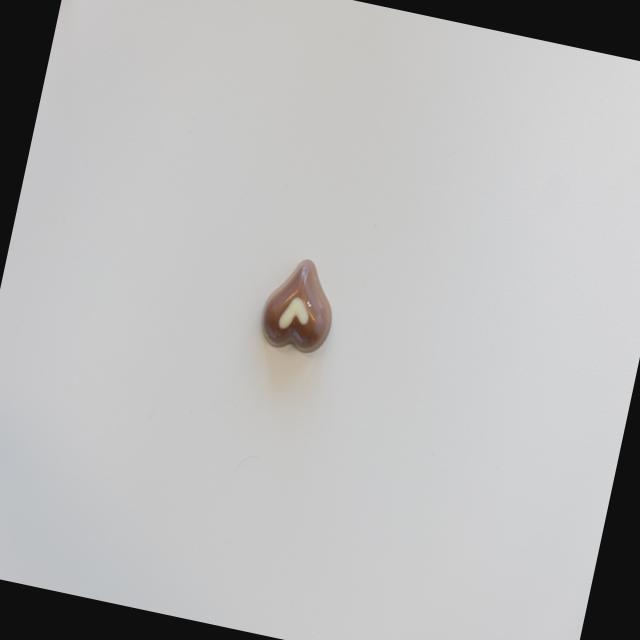Passion_au_lait: (256, 252, 343, 357)
